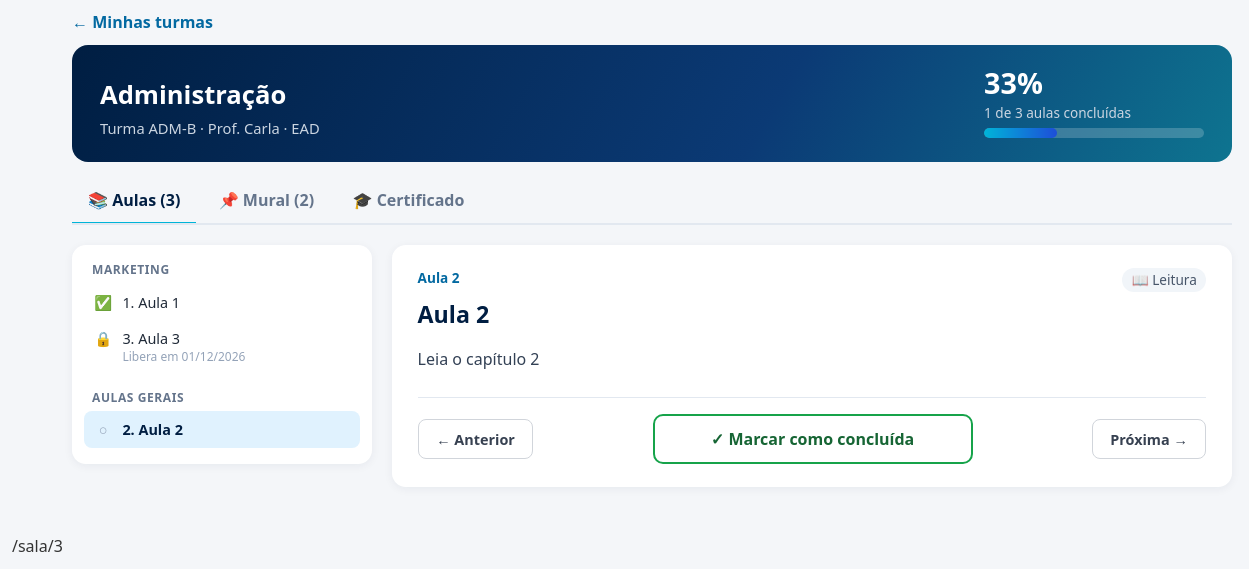
Test: mural mostra os avisos com o fixado em destaque
Check: the heading "Aula 2" is shown, box [418,298,489,330]
What coordinates should you click on to do the following:
click the tab "📌 Mural (2)"
I would click on:
 (266, 202)
Its box is [203,178,330,225].
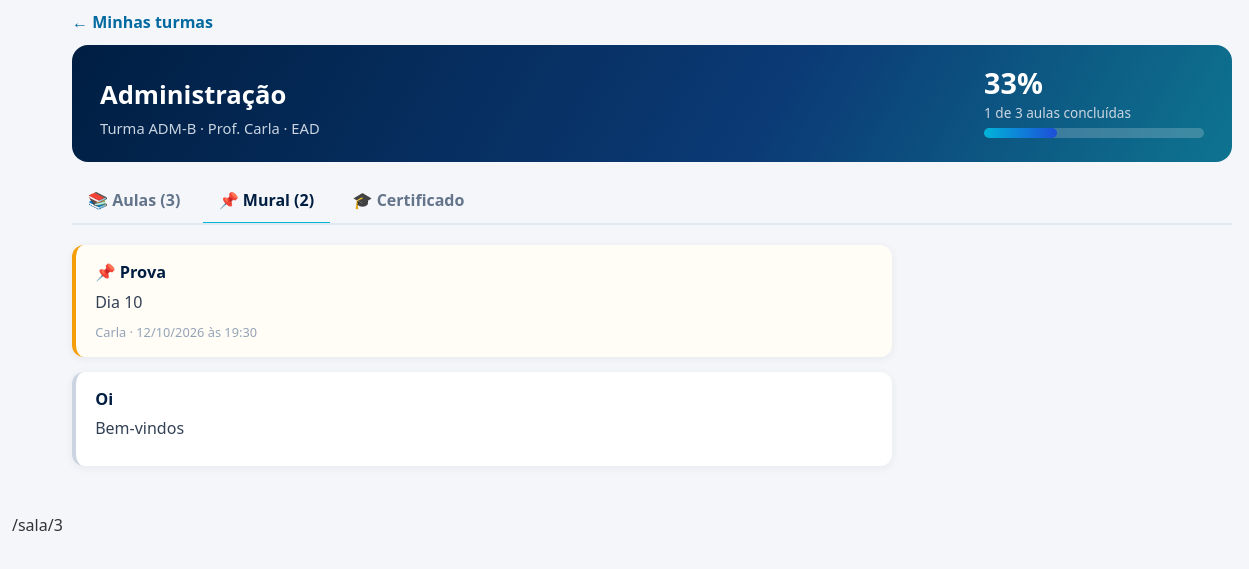
Check: the text named "Aviso fixado" is shown, box [95,261,120,283]
Check: the text "Carla · 12/10/2026 às 19:30" is shown, box [95,323,257,341]
Check: the text "Bem-vindos" is shown, box [95,417,184,439]
